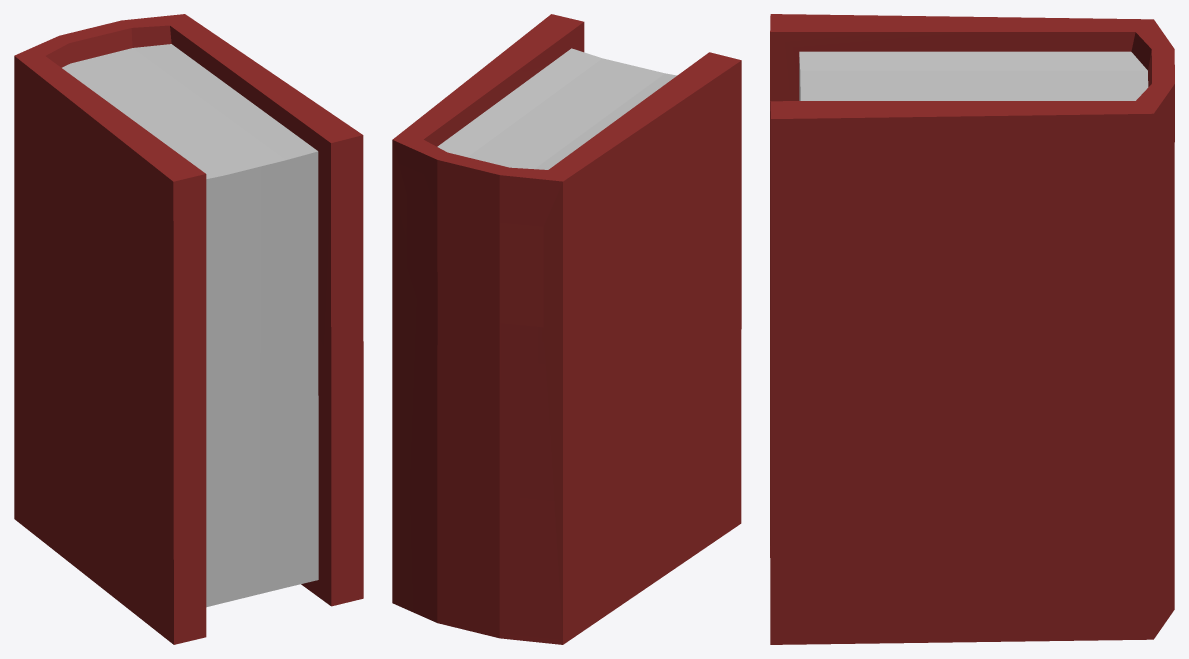
The model's file is book01.fbx.
3 views of the same model, side by side, from view 1: azimuth 30°, elevation 25°; view 2: azimuth 150°, elevation 25°; view 3: azimuth 270°, elevation 25° (orthographic). The views are drawn at different scales.
Visible parts, largest first — view 1: book01; view 2: book01; view 3: book01.
Boxes of the visible parts, bbox=[...] form: book01: bbox=[14, 14, 363, 644]; book01: bbox=[392, 14, 741, 644]; book01: bbox=[770, 14, 1174, 644].
Size of the model in its own units: 0.152 by 0.3538 by 0.2468.
